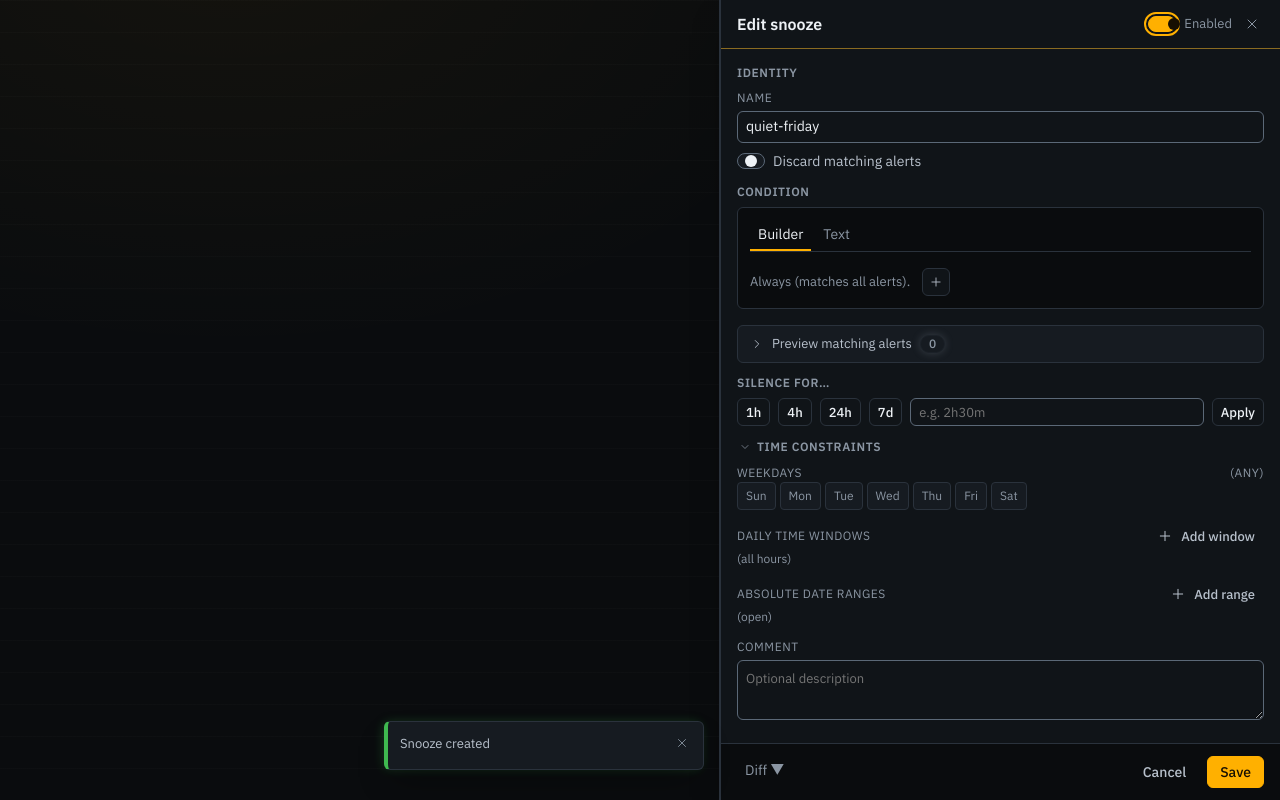
Test: SnoozeEditor › includes time-constraint changes in the pre-save diff
This screenshot has width=1280, height=800.
Expected: the field showing "quiet-friday" is shown, 738,116 -> 1263,137
# Add a time window via a Silence-for preset (single click sets datetime).
Click the button "1h".
click(754, 412)  # box 737,398 -> 770,426
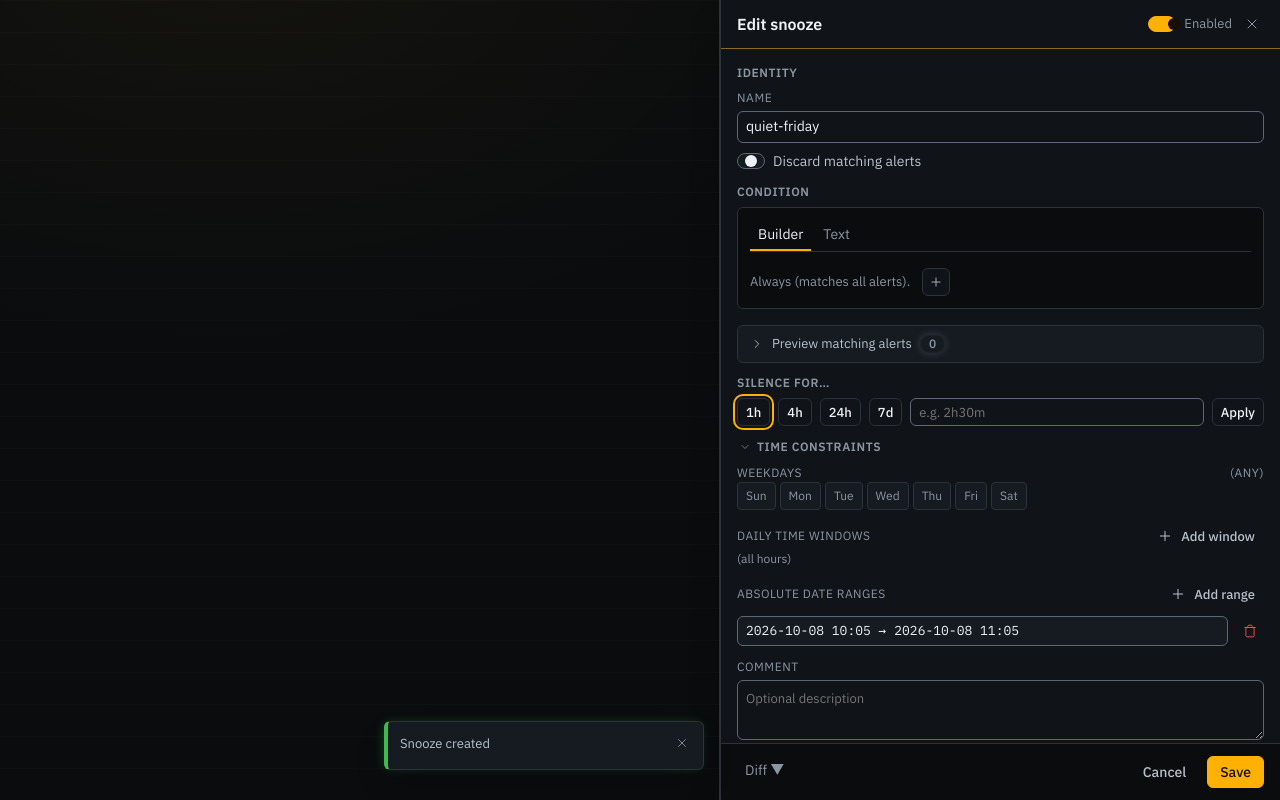
Click the button "Diff ▼".
click(765, 770)  # box 737,756 -> 792,785
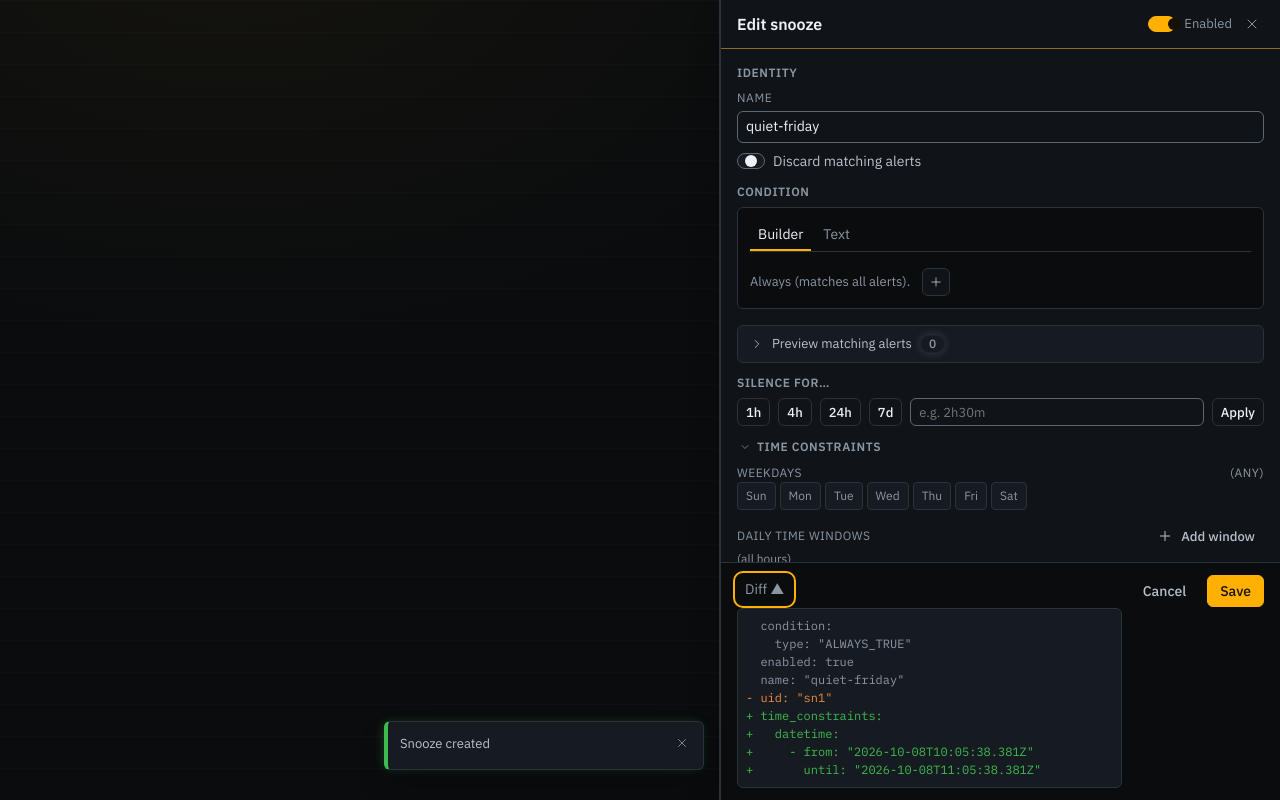
Result: the text "time_constraints" is shown at 746,708 -> 883,723
